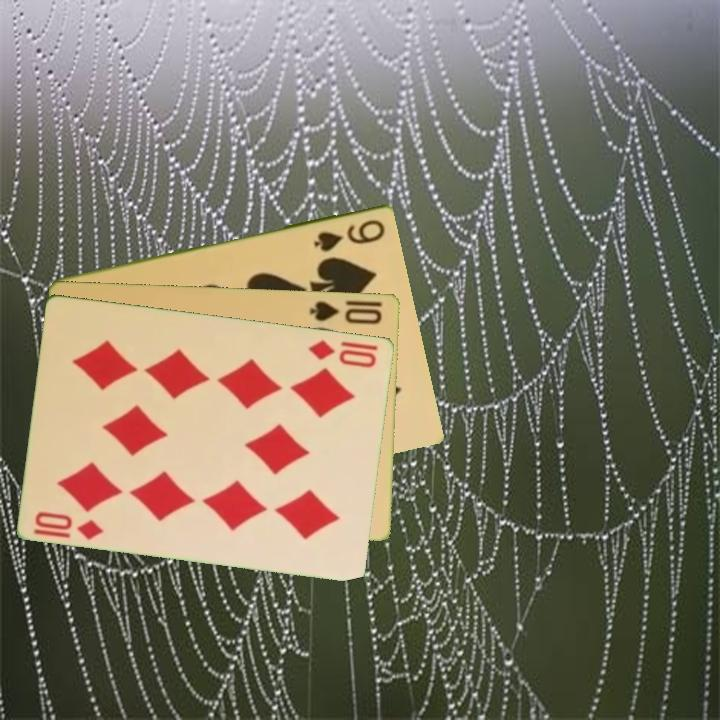10d: (31, 507, 107, 543), (305, 336, 380, 371)
10s: (306, 297, 385, 327)
9s: (310, 215, 388, 254)
